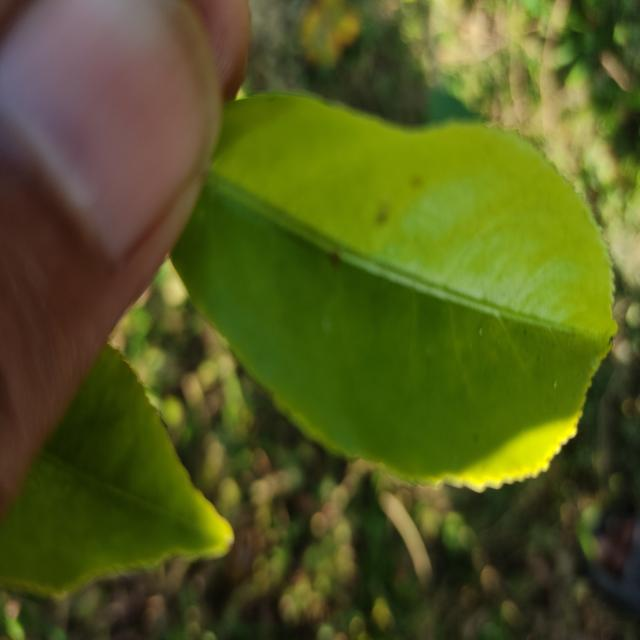Category C(4-7 days): (136, 63, 632, 502)
